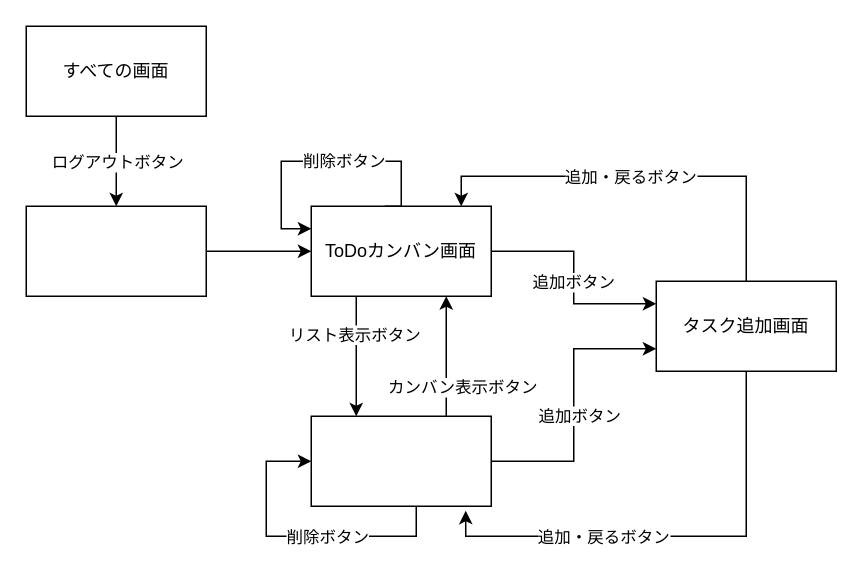
Image size: 863x575. Some labels were removed from this diagram. Each missing label, with the centre of its shape:
"ToDoリスト画面" goes at (400,460).
"ログイン画面" goes at (115,250).
